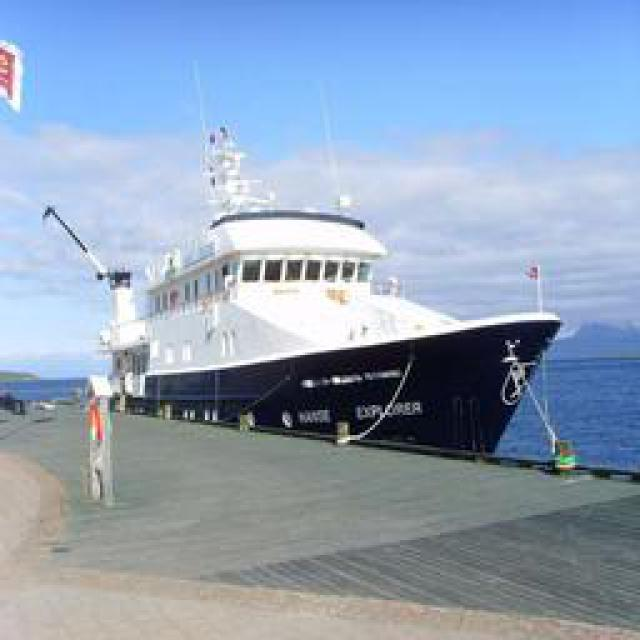Ship: (100, 172, 570, 442)
